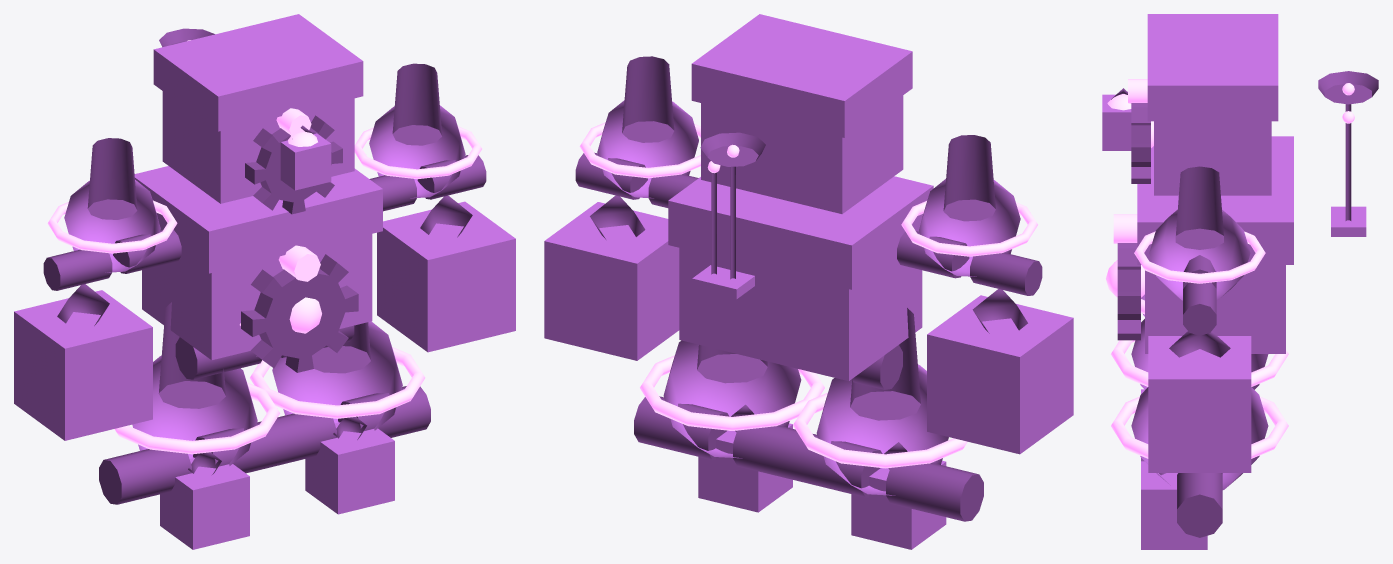
The model's file is golem_134.glb.
3 views of the same model, side by side, from view 1: azimuth 30°, elevation 25°; view 2: azimuth 150°, elevation 25°; view 3: azimuth 270°, elevation 25° (orthographic). The views are drawn at different scales.
Visible parts, largest first — view 1: Body, Detail, Glow; view 2: Body, Detail, Glow; view 3: Body, Detail, Glow.
Boxes of the visible parts, x1=… form: Body: x1=14, y1=14, x2=515, y2=549; Detail: x1=43, y1=28, x2=486, y2=504; Glow: x1=47, y1=40, x2=481, y2=454; Body: x1=544, y1=14, x2=1073, y2=549; Detail: x1=575, y1=56, x2=1042, y2=521; Glow: x1=579, y1=122, x2=1037, y2=468; Body: x1=1102, y1=14, x2=1366, y2=549; Detail: x1=1111, y1=71, x2=1378, y2=537; Glow: x1=1106, y1=79, x2=1354, y2=458.
Size of the model in its own units: 1.45 by 1.37 by 0.7619.
